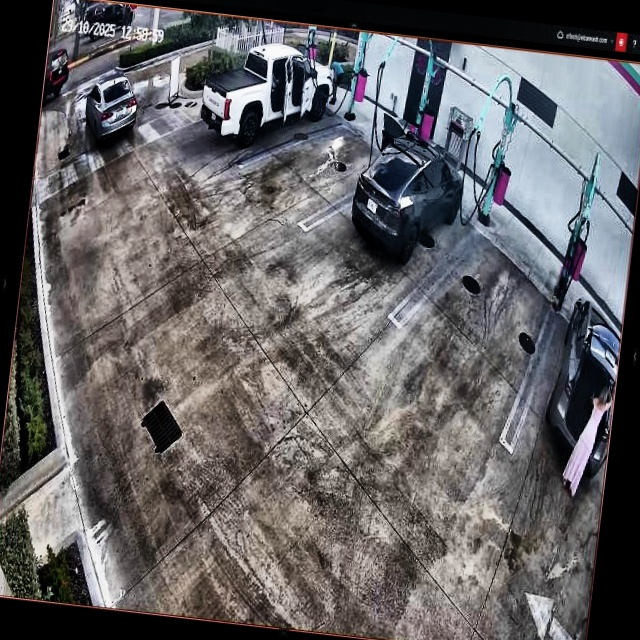Car: (347, 127, 469, 264), (80, 67, 142, 148)
